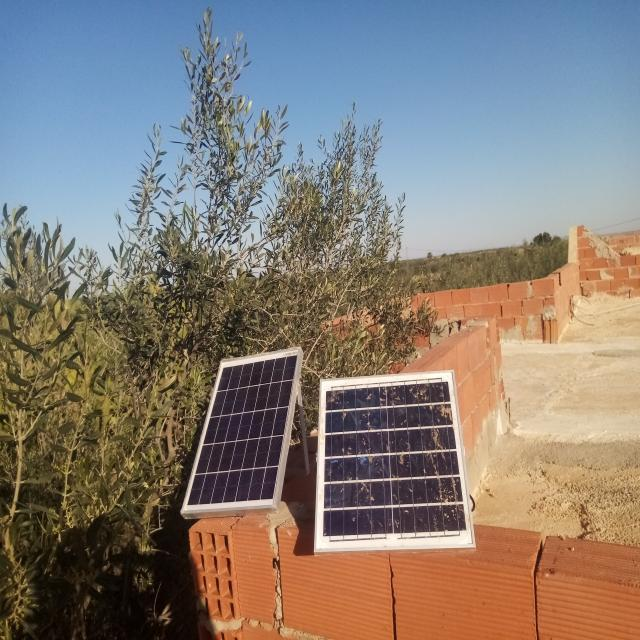faulty: (315, 370, 474, 552)
no faulty: (181, 348, 300, 513)
